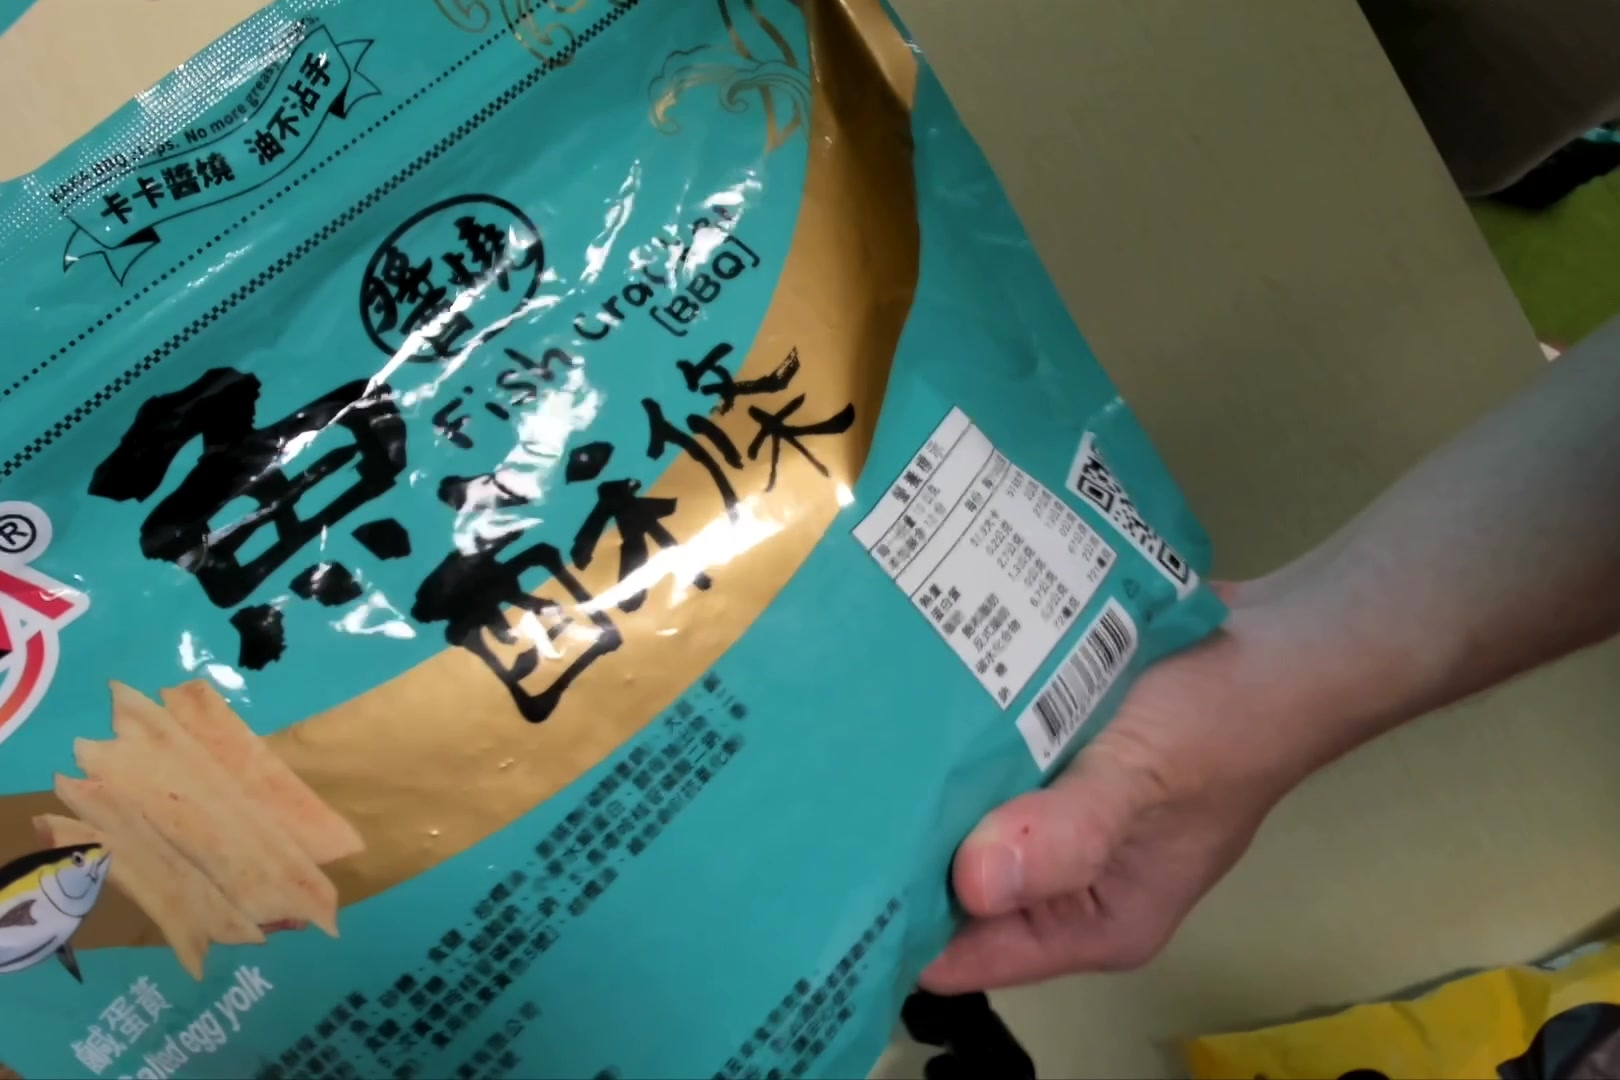PotatoChipsKeropok_100-199g_NonHalal_NonHealthy: (2, 2, 1217, 1080)
